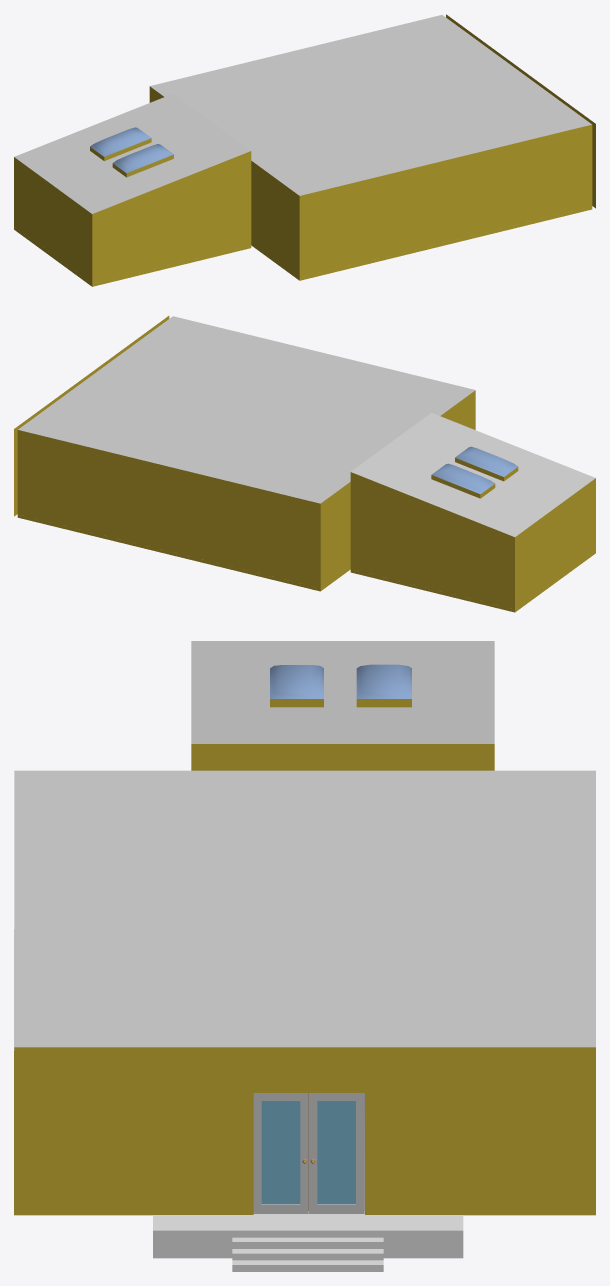
The model's file is StudioGallery2.fbx.
3 renders of one model, top to bottom at view 1: azimuth 30°, elevation 25°; view 2: azimuth 150°, elevation 25°; view 3: azimuth 270°, elevation 25°, orthographic. The views are drawn at different scales.
Visible parts, largest first — view 1: Cube, Cube.002; view 2: Cube, Cube.002; view 3: Cube, Cube.001, Door.002, Door.001, Cube.002.
Boxes of the visible parts, bbox=[...] form: Cube: bbox=[14, 14, 595, 286]; Cube.002: bbox=[90, 127, 173, 173]; Cube: bbox=[14, 316, 595, 612]; Cube.002: bbox=[431, 446, 517, 494]; Cube: bbox=[14, 641, 595, 1215]; Cube.001: bbox=[153, 1212, 463, 1271]; Door.002: bbox=[253, 1093, 308, 1213]; Door.001: bbox=[309, 1093, 364, 1213]; Cube.002: bbox=[270, 664, 411, 698].
Bounding box in the file's own units: 4912 × 1067 × 2612.
